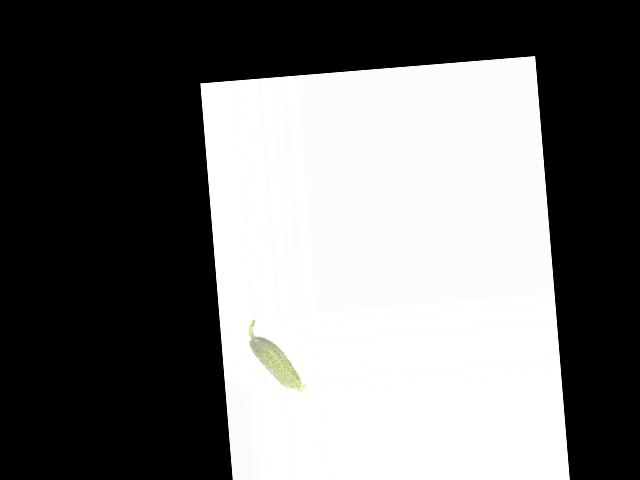cucumber: (247, 317, 307, 396)
